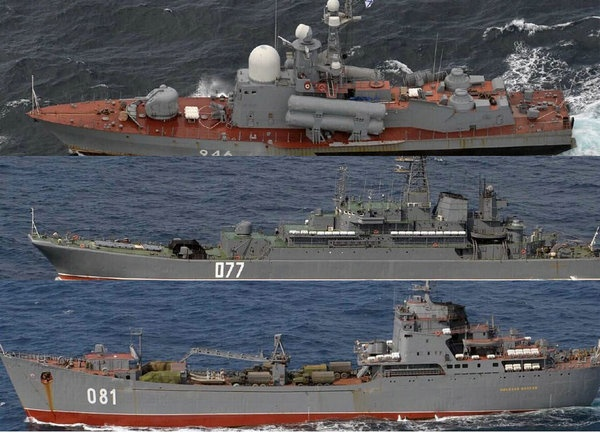warship: (27, 3, 574, 155), (23, 147, 600, 283), (11, 289, 600, 412)
